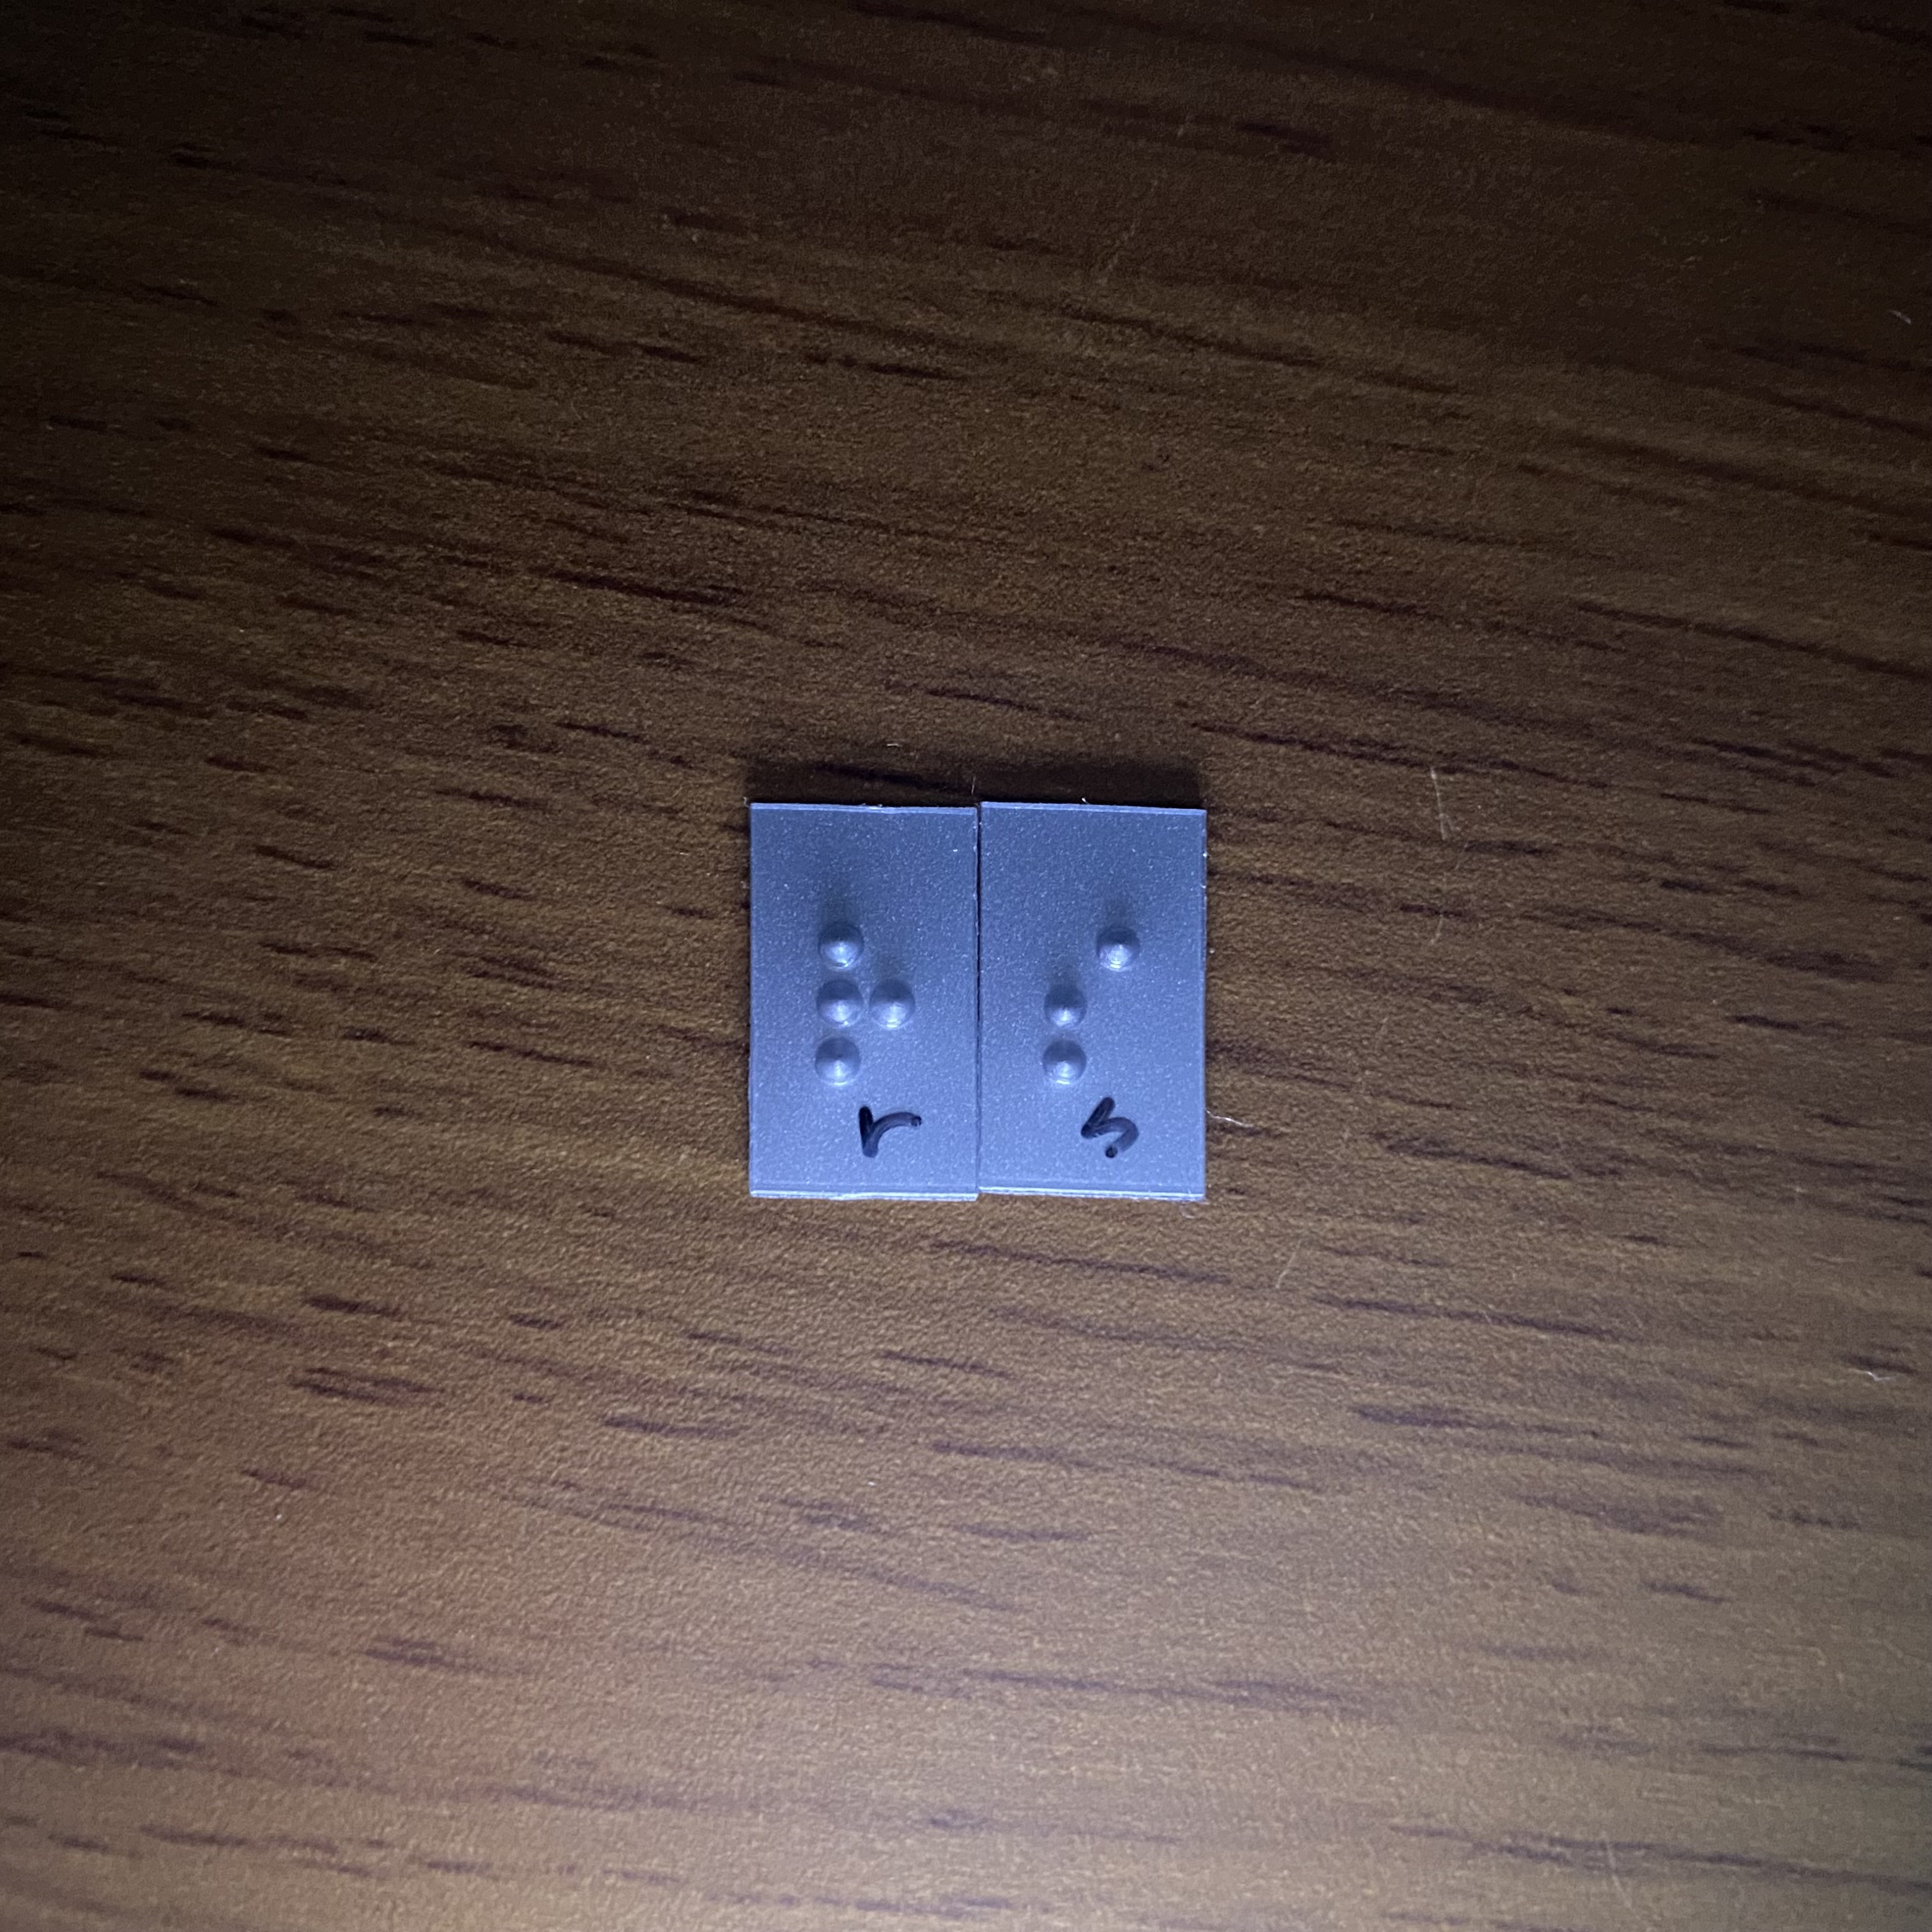r: (807, 872, 935, 1092)
s: (1034, 887, 1151, 1094)
